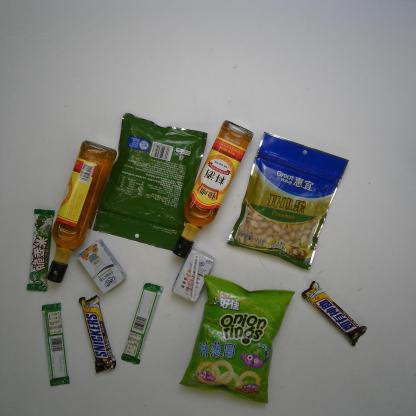Chocolate: (300, 279, 369, 347), (120, 282, 164, 365), (78, 294, 118, 375), (41, 301, 72, 386), (26, 207, 56, 294)
Dried Fruit: (225, 129, 351, 271), (92, 111, 209, 252)
Milk: (75, 238, 127, 296), (171, 247, 216, 304)
Puffed Food: (177, 272, 296, 405)
Seasoner: (171, 119, 256, 259), (45, 139, 118, 284)
